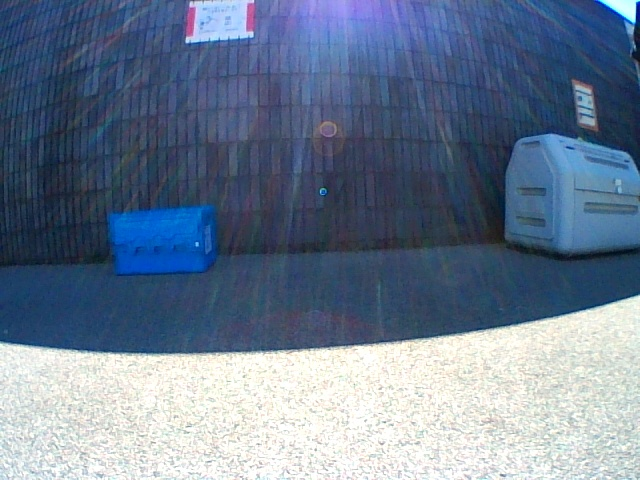blue_box: (108, 205, 215, 274)
tag: (205, 226, 210, 252)
